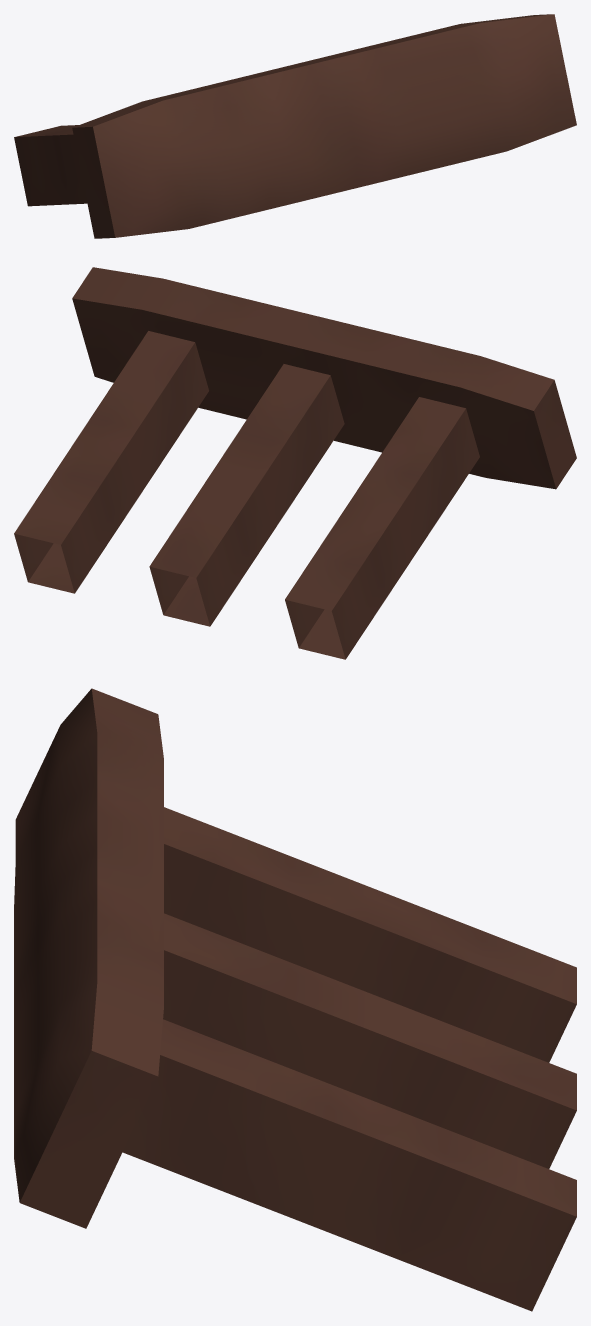
Rendered from FiltersMachineSwitch.fbx.
3 views of the same model, one above another, from view 1: azimuth 30°, elevation 25°; view 2: azimuth 150°, elevation 25°; view 3: azimuth 270°, elevation 25° (orthographic). The views are drawn at different scales.
Visible parts, largest first — view 1: Cube.092; view 2: Cube.092; view 3: Cube.092.
Boxes of the visible parts, x1,y1,x2,y2 form: Cube.092: (14,14,576,238); Cube.092: (14,267,576,659); Cube.092: (14,688,576,1311).
Bounding box in the file's own units: 31.84 × 13.49 × 20.91.
